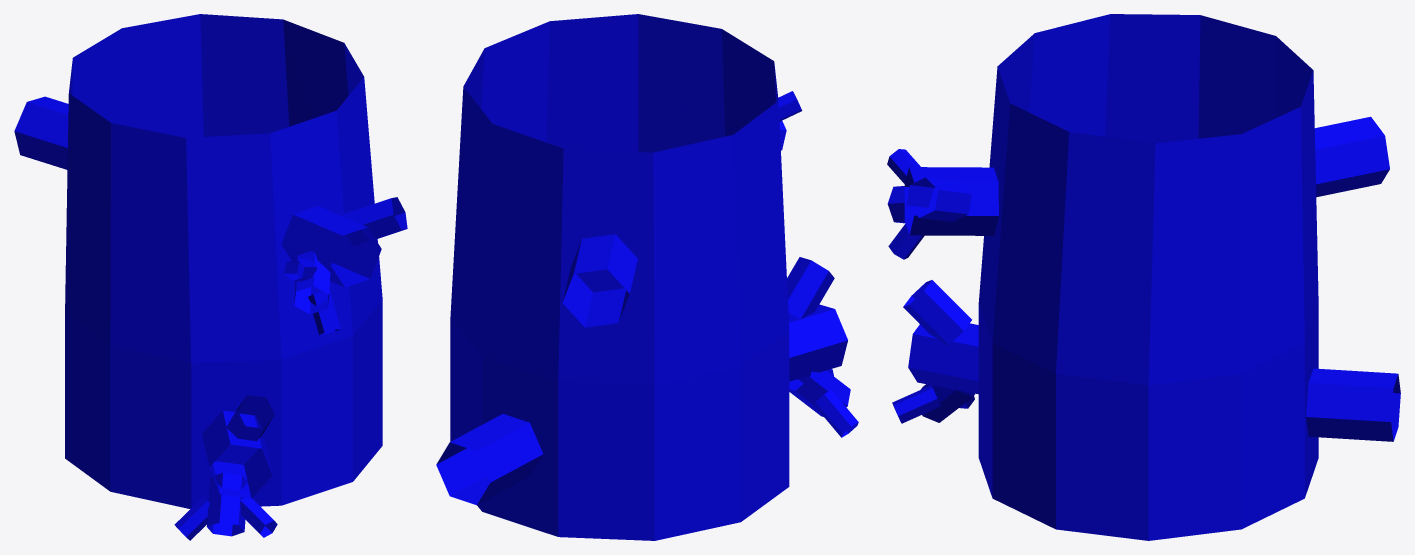
3 views of the same model, side by side, from view 1: azimuth 30°, elevation 25°; view 2: azimuth 150°, elevation 25°; view 3: azimuth 270°, elevation 25° (orthographic). The views are drawn at different scales.
Visible parts, largest first — view 1: Cube; view 2: Cube; view 3: Cube.
Part boxes in pixels (left/top/right/bottom): Cube: left=14, top=14, right=407, bottom=540; Cube: left=436, top=14, right=858, bottom=540; Cube: left=887, top=14, right=1400, bottom=540.
Size of the model in its own units: 1.96 by 2.53 by 2.99.
